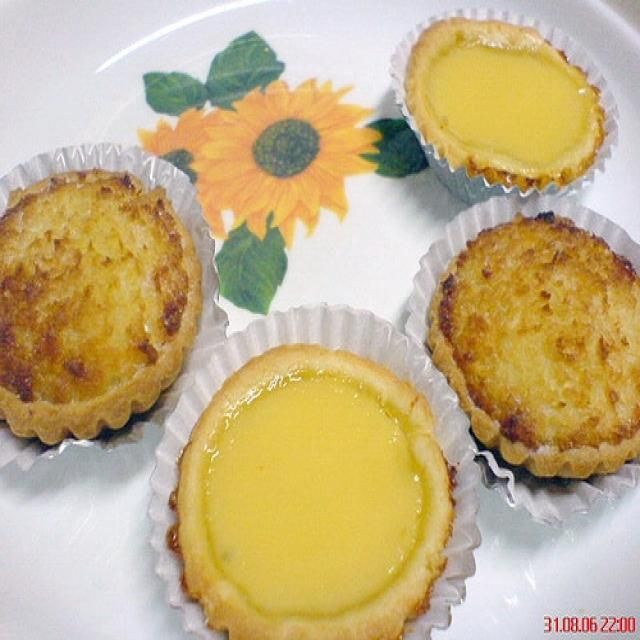炸货点心: (9, 20, 623, 612)
蛋糕甜品: (9, 20, 623, 612)
